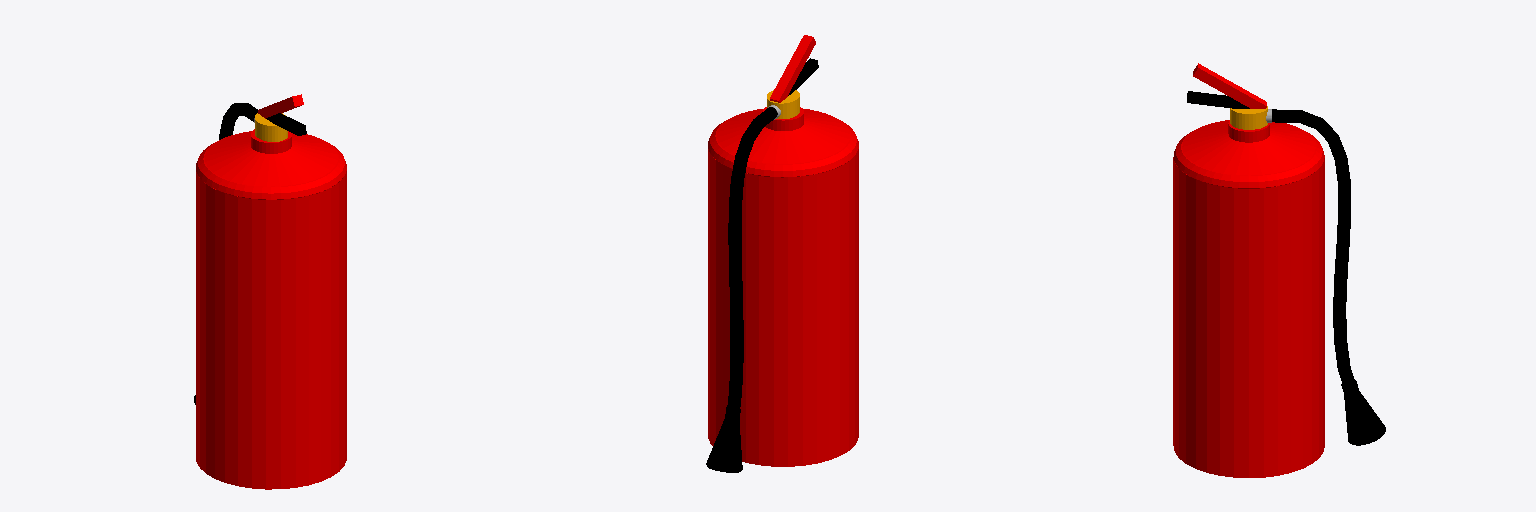
Rendered from Brændslukker.obj.
The picture shows the model from 3 angles: view 1: azimuth 30°, elevation 25°; view 2: azimuth 150°, elevation 25°; view 3: azimuth 270°, elevation 25°; orthographic projection.
Parts seen in each view (by area): view 1: Cylinder, Cone, Torus, BezierCurve, Cylinder.002, Cylinder.001; view 2: Cylinder, Cone, BezierCurve, Torus, Cone.001, Cube, Cylinder.002; view 3: Cylinder, Cone, BezierCurve, Torus, Cone.001, Cube, Cylinder.002, Cube.001, Cylinder.001.
Part boxes in pixels (x1,y1,x2,y2): Cylinder: (196,171,346,489); Cone: (204,131,337,186); Torus: (196,131,346,199); BezierCurve: (219,103,257,139); Cylinder.002: (255,113,287,141); Cylinder.001: (251,129,291,153); Cylinder: (708,149,858,466); Cone: (716,109,849,163); BezierCurve: (727,107,777,409); Torus: (708,109,858,177); Cone.001: (706,419,742,472); Cube: (770,35,815,102); Cylinder.002: (767,90,799,118); Cylinder: (1173,157,1324,477); Cone: (1182,120,1315,175); BezierCurve: (1272,109,1354,385); Torus: (1174,120,1324,188); Cone.001: (1344,391,1385,445); Cube: (1193,63,1266,108); Cylinder.002: (1230,106,1267,129); Cube.001: (1187,91,1249,108); Cylinder.001: (1228,120,1269,142).
Bounding box in the file's own units: 1.38 × 3.82 × 1.94.